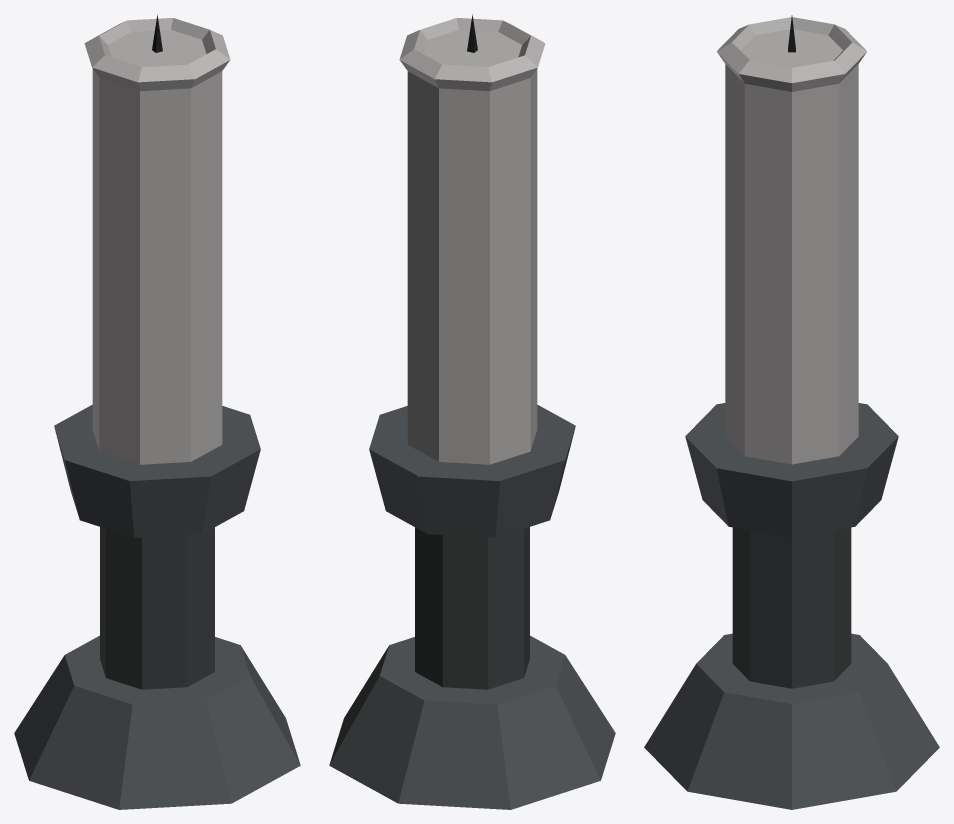
The model's file is Candle 02.fbx.
3 views of the same model, side by side, from view 1: azimuth 30°, elevation 25°; view 2: azimuth 150°, elevation 25°; view 3: azimuth 270°, elevation 25° (orthographic).
Parts seen in each view (by area): view 1: Candle_02; view 2: Candle_02; view 3: Candle_02.
Boxes of the visible parts, bbox=[...] form: Candle_02: bbox=[14, 14, 300, 809]; Candle_02: bbox=[329, 14, 615, 809]; Candle_02: bbox=[644, 15, 939, 809].
Size of the model in its own units: 15.69 by 42.91 by 15.69.
